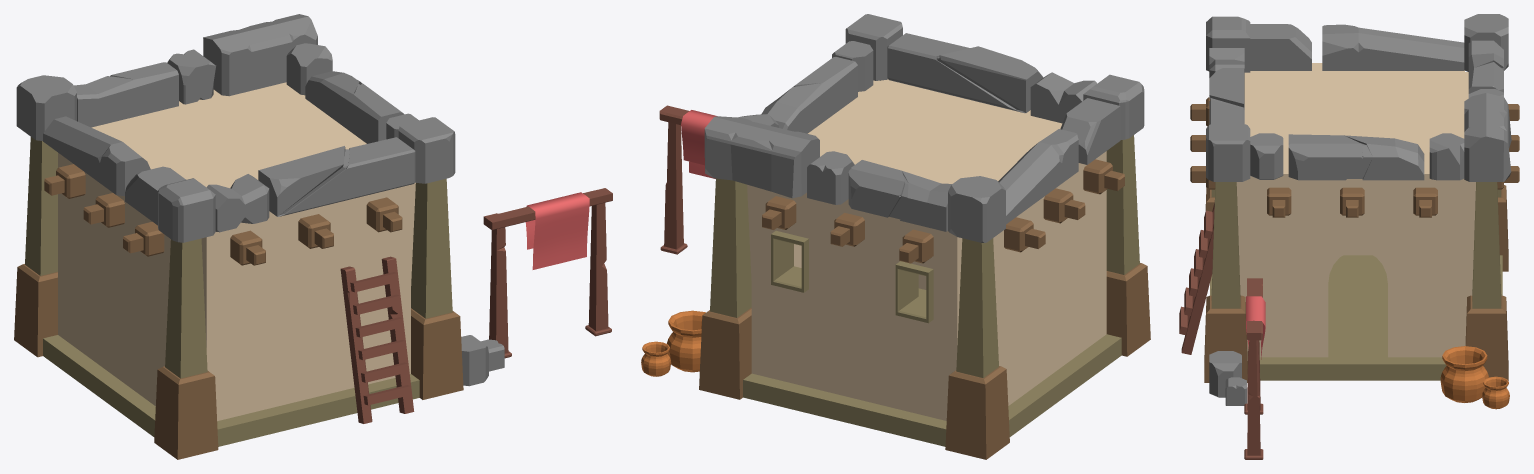
File: Casa2.fbx
3 renders of one model, left to right at view 1: azimuth 30°, elevation 25°; view 2: azimuth 150°, elevation 25°; view 3: azimuth 270°, elevation 25°, orthographic. The views are drawn at different scales.
Parts seen in each view (by area): view 1: paredes, columnas, Cube.013, Cube.024, Cube.003, Cube.019, Cube.010, Cube.005, Cube.014, Plane, Bolaardos.001, Cube.002 (+8 smaller); view 2: paredes, columnas, Cube.013, Cube.003, Cube.010, Cube.014, Cube.005, Cube.001, Bolaardos.001, Bolaardos, Cube.006, Cube.019 (+10 smaller); view 3: paredes, columnas, Cube.014, Cube.005, Cube.003, Cube.006, Cube.004, Cube.024, Cube.019, Cylinder.001, Bolaardos.001, Cube.013 (+11 smaller).
Part boxes in pixels (bbox=[...]): paredes: bbox=[43, 82, 419, 446]; columnas: bbox=[14, 137, 463, 459]; Cube.013: bbox=[258, 137, 415, 216]; Cube.024: bbox=[340, 256, 414, 423]; Cube.003: bbox=[203, 14, 317, 96]; Cube.019: bbox=[483, 188, 612, 358]; Cube.010: bbox=[73, 62, 178, 127]; Cube.005: bbox=[43, 116, 150, 196]; Cube.014: bbox=[305, 71, 404, 143]; Plane: bbox=[525, 192, 589, 269]; Bolaardos.001: bbox=[44, 164, 164, 256]; Cube.002: bbox=[158, 178, 215, 242]; paredes: bbox=[743, 79, 1121, 446]; columnas: bbox=[699, 80, 1150, 459]; Cube.013: bbox=[887, 33, 1043, 113]; Cube.003: bbox=[704, 116, 819, 198]; Cube.010: bbox=[848, 160, 951, 231]; Cube.014: bbox=[761, 57, 857, 133]; Cube.005: bbox=[998, 129, 1078, 224]; Cube.001: bbox=[948, 176, 1005, 242]; Bolaardos.001: bbox=[1004, 159, 1124, 252]; Bolaardos: bbox=[762, 196, 933, 263]; Cube.006: bbox=[1060, 98, 1120, 164]; Cube.019: bbox=[659, 105, 689, 254]; paredes: bbox=[1210, 63, 1502, 380]; columnas: bbox=[1204, 182, 1508, 382]; Cube.014: bbox=[1288, 134, 1424, 180]; Cube.005: bbox=[1322, 24, 1464, 70]; Cube.003: bbox=[1464, 93, 1511, 181]; Cube.006: bbox=[1250, 24, 1311, 70]; Cube.004: bbox=[1206, 124, 1250, 181]; Cube.024: bbox=[1179, 203, 1214, 354]; Cube.019: bbox=[1244, 278, 1263, 459]; Cylinder.001: bbox=[1440, 346, 1488, 402]; Bolaardos.001: bbox=[1267, 187, 1437, 217]; Cube.013: bbox=[1209, 68, 1244, 124].
Size of the model in its own units: 6845 by 3671 by 4616.
